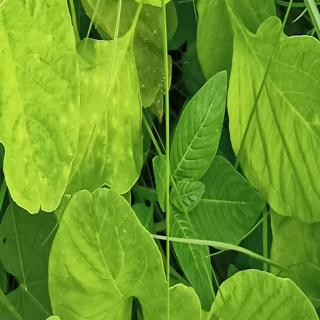karat_putih: (75, 30, 148, 194)
